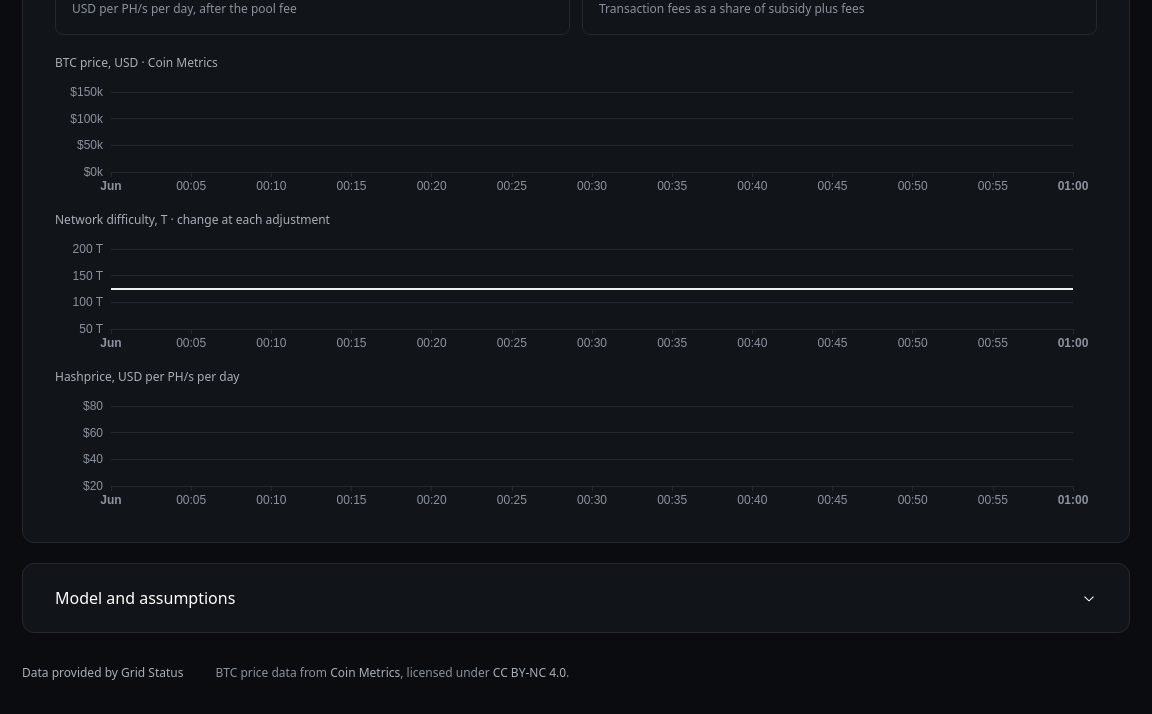
Test case: App › says how many intervals were skipped, under the assumptions
(page scrolled)
Click the button "Model and assumptions".
click(145, 598)  # box [23,564,1129,632]
(page scrolled)
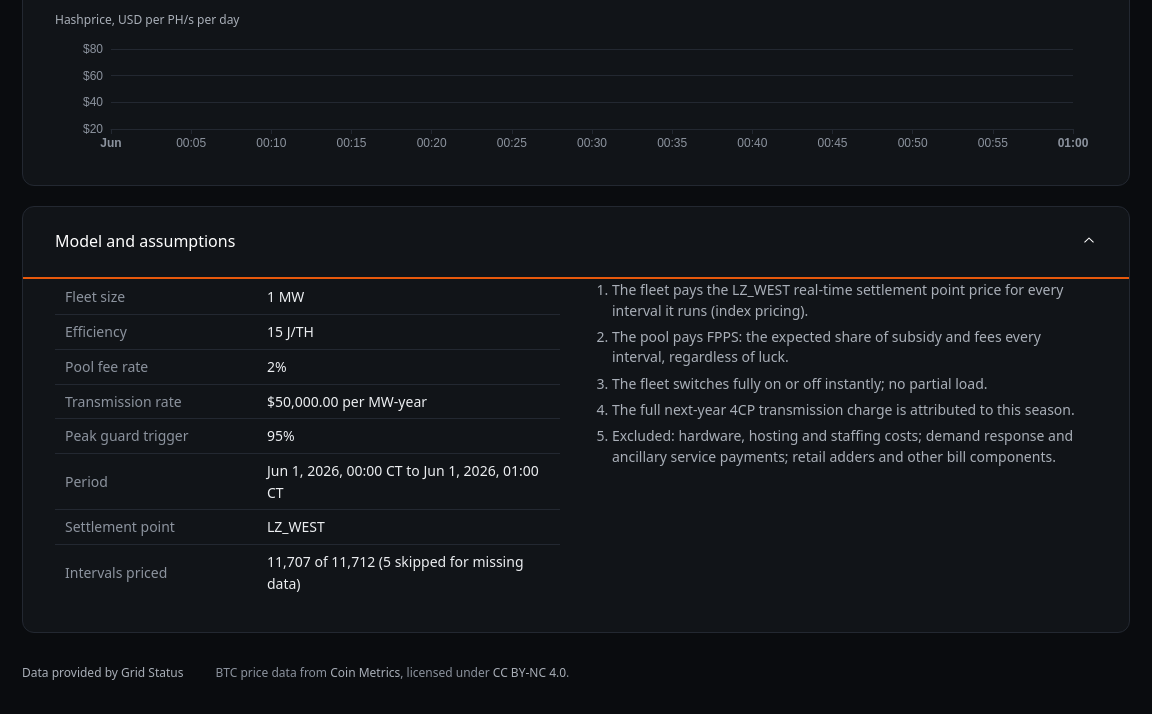
Check: the row "Intervals priced 11,707 of 11,712 (5 skipped for missing data)" is shown, box [55,544,560,600]
